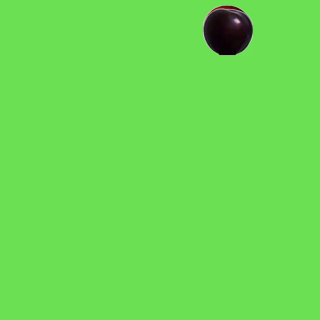Apple Braeburn: (202, 4, 252, 54)
Cherry Wax Black: (202, 6, 252, 56)
